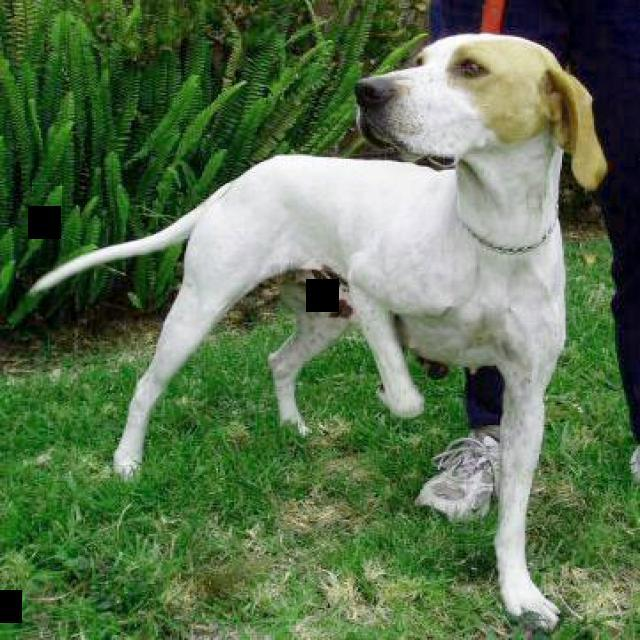adult_dog: (24, 23, 613, 628)
